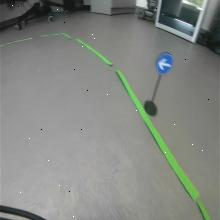left: (154, 52, 174, 75)
